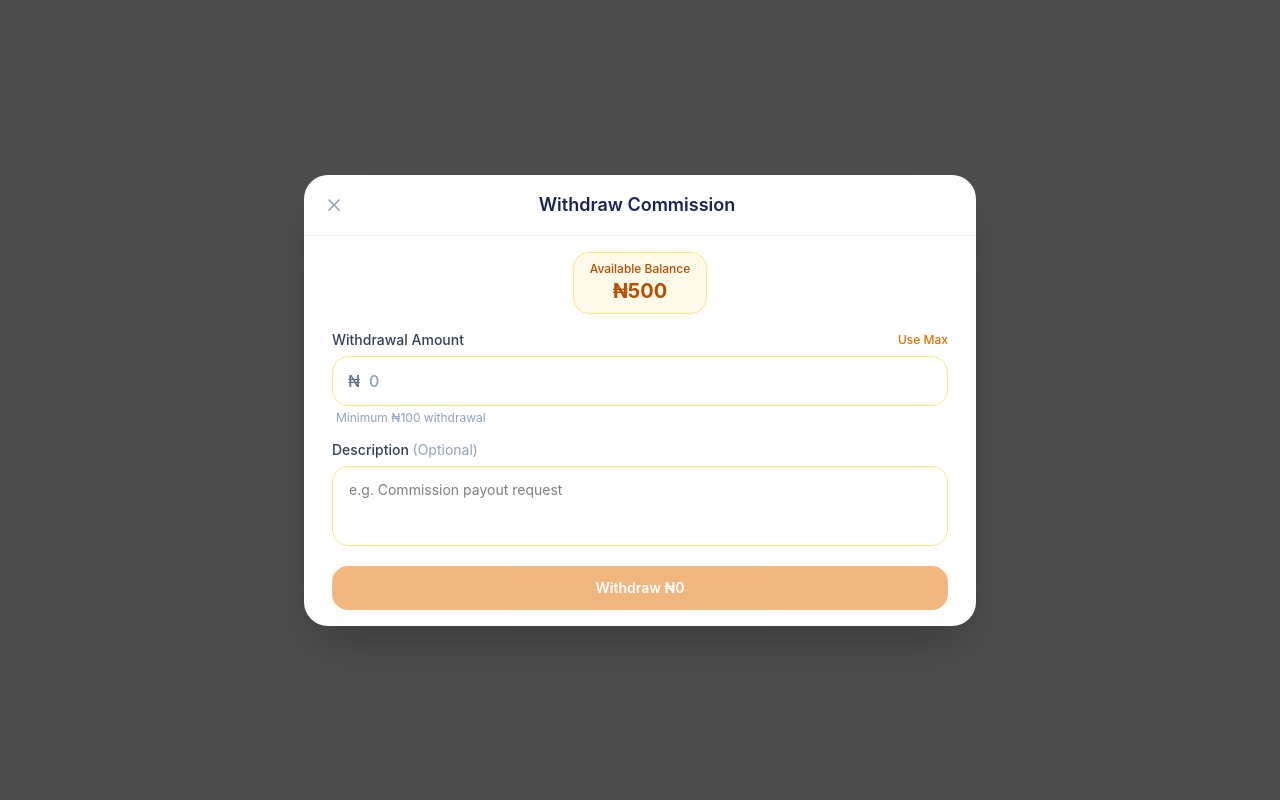
it: withdrawal flows › AgentWithdrawModal › Use Max button sets amount to availableBalance
This screenshot has width=1280, height=800.
Click the button "Use Max" at point(923, 340), box [898,332,948,348]
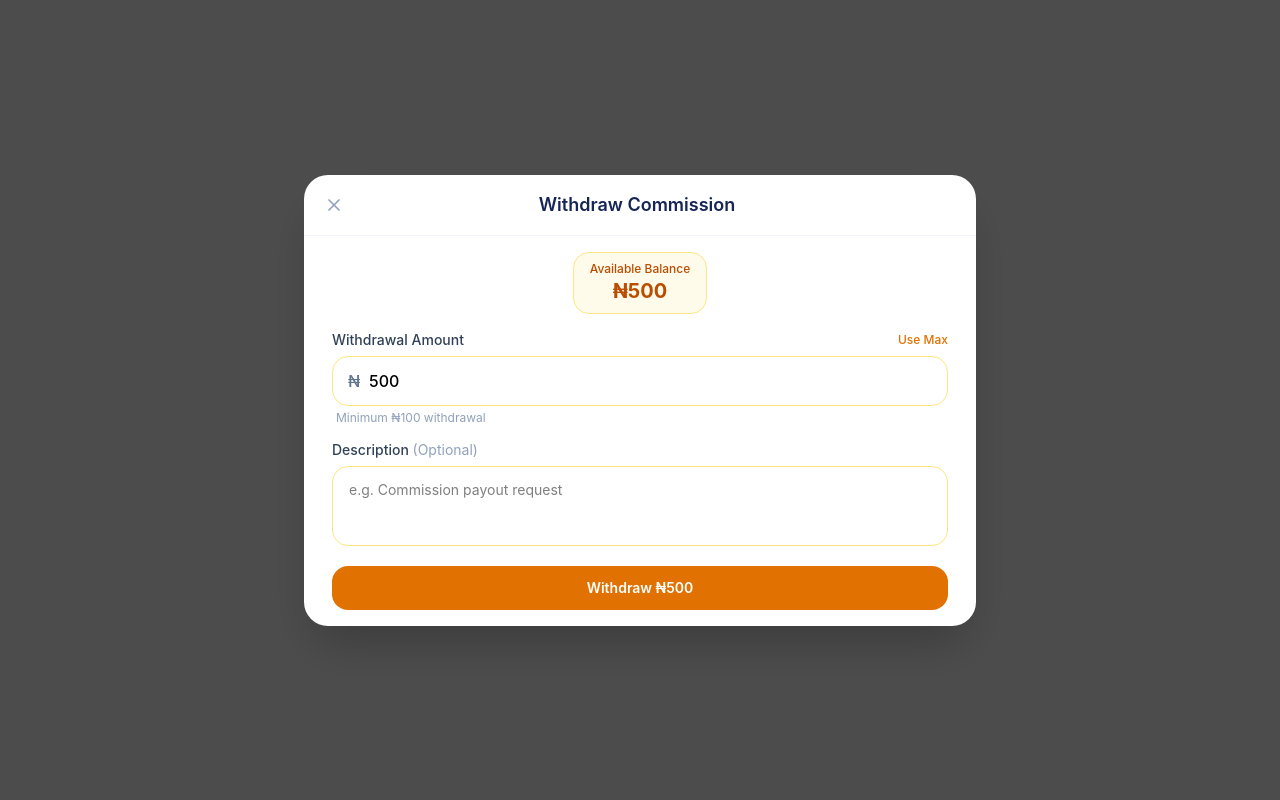
expect the number field with placeholder "0" holds "500": met, box [332,356,948,406]
